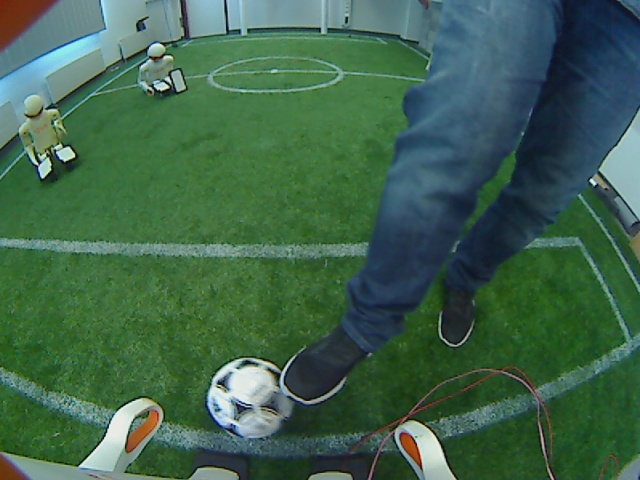ball: (204, 356, 294, 444)
robot: (15, 93, 83, 185), (134, 39, 189, 102)
